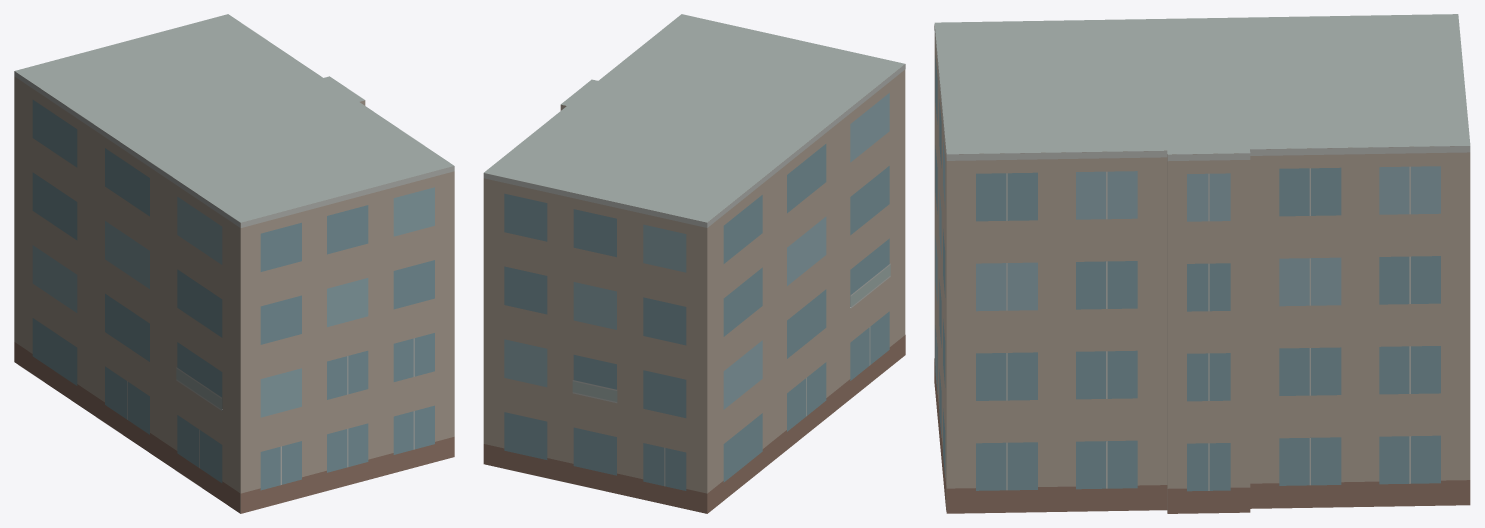
File: survey-upis-32616868.glb
3 views of the same model, side by side, from view 1: azimuth 30°, elevation 25°; view 2: azimuth 150°, elevation 25°; view 3: azimuth 270°, elevation 25° (orthographic). The views are drawn at different scales.
Visible parts, largest first — view 1: survey-upis-32616868.tmp; view 2: survey-upis-32616868.tmp; view 3: survey-upis-32616868.tmp.
Boxes of the visible parts, <box> form: survey-upis-32616868.tmp: <box>14,14,454,513</box>; survey-upis-32616868.tmp: <box>483,14,905,513</box>; survey-upis-32616868.tmp: <box>934,14,1470,513</box>.
Bounding box in the file's own units: 11.08 × 13.2 × 17.85.
